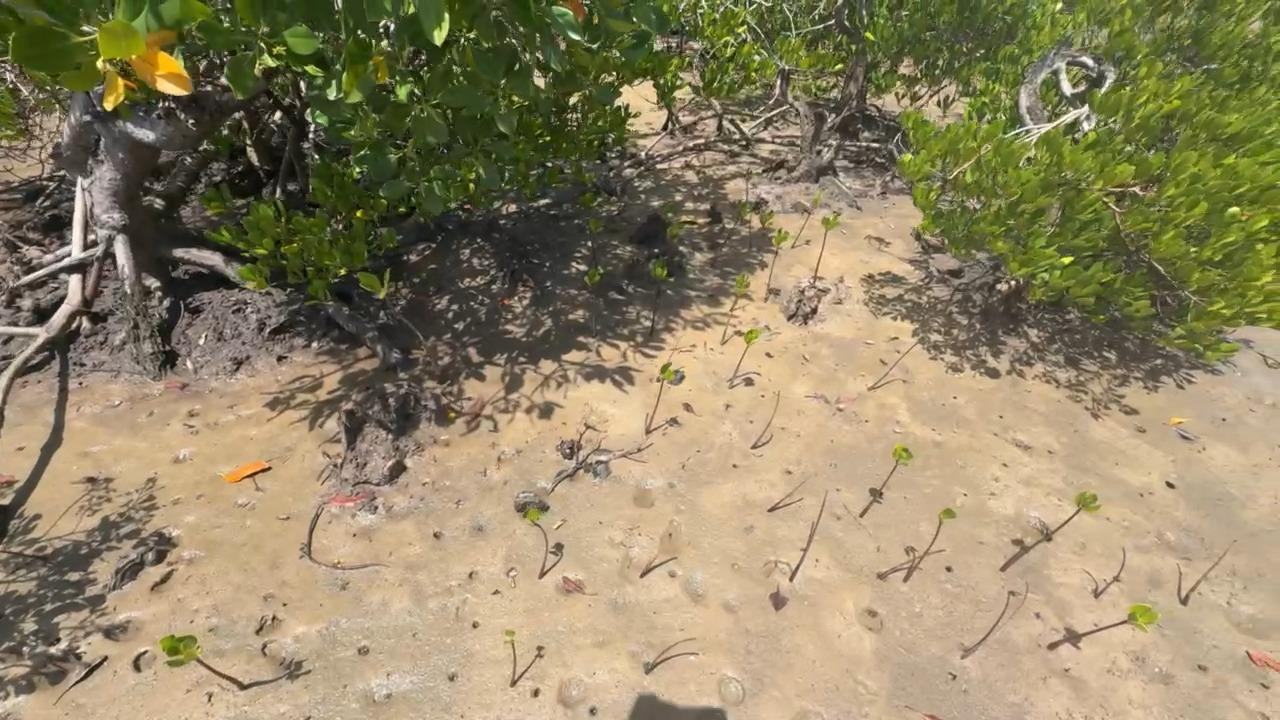Tree: (960, 579, 1029, 662), (1047, 603, 1161, 652), (160, 634, 247, 690), (902, 507, 957, 583), (788, 489, 829, 582), (1182, 539, 1237, 607), (1043, 491, 1103, 542), (867, 341, 918, 392), (720, 272, 751, 345), (645, 361, 675, 434), (728, 328, 762, 389), (812, 214, 841, 285), (764, 227, 790, 303), (791, 191, 824, 250), (876, 445, 914, 496), (646, 637, 697, 675), (523, 504, 548, 580), (750, 390, 780, 449), (719, 200, 751, 251), (1095, 546, 1125, 599), (649, 259, 668, 336), (584, 266, 604, 337), (767, 480, 805, 512), (588, 214, 606, 271), (308, 504, 325, 560), (665, 222, 687, 259), (504, 629, 517, 688), (759, 208, 775, 246), (639, 554, 659, 579)
